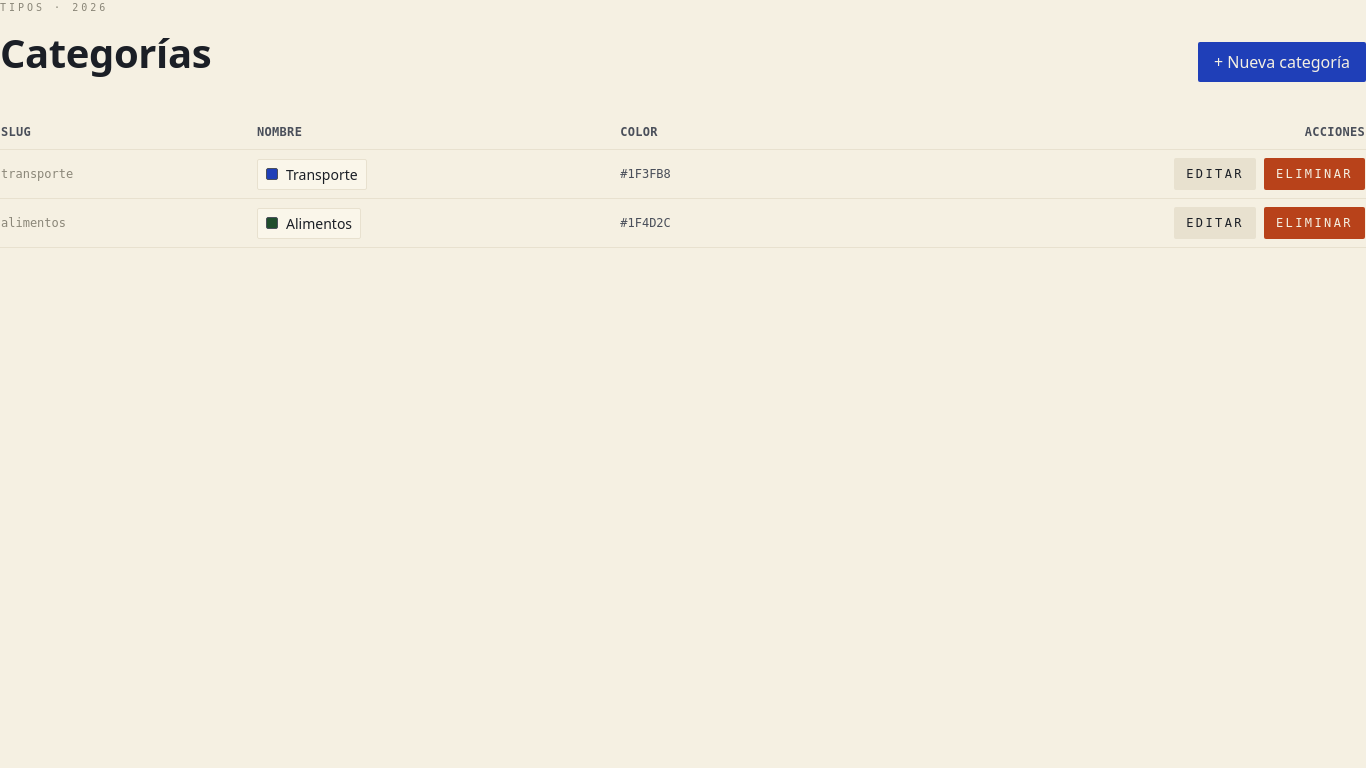
Scenario: CategoriesAdminPage — full CRUD with modals › clicking Editar opens a modal pre-populated with the category
Expected: the text "Transporte" is shown, [286,164,358,184]
Step 1. Click the button "Editar" in the row of "#1F3FB8" → click(1215, 174), box [1174,158,1256,190]
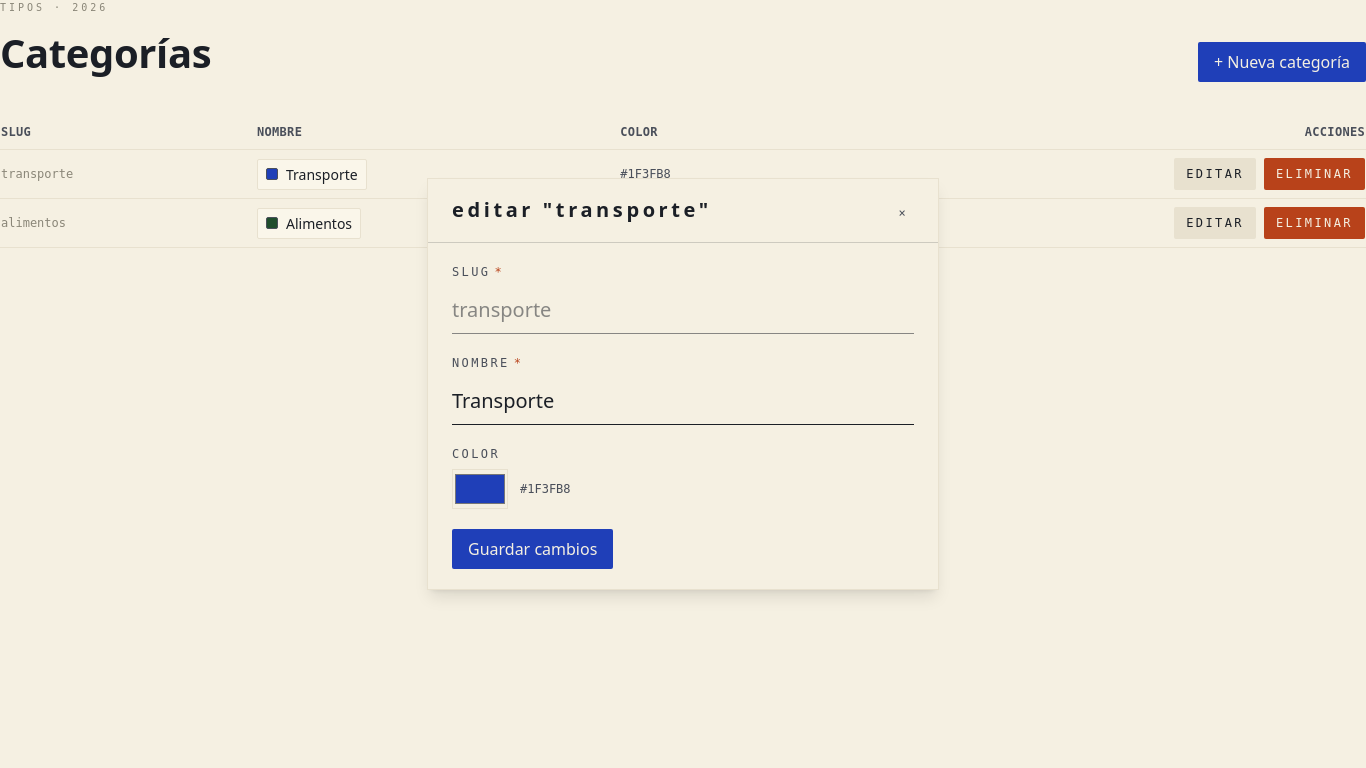
Now the dialog is shown, box [427,178,939,590]
Now the field labelled "Nombre*" holds "Transporte", box [452,378,914,425]
Now the colour field labelled "Color" holds "#1f3fb8", box [452,469,508,509]
